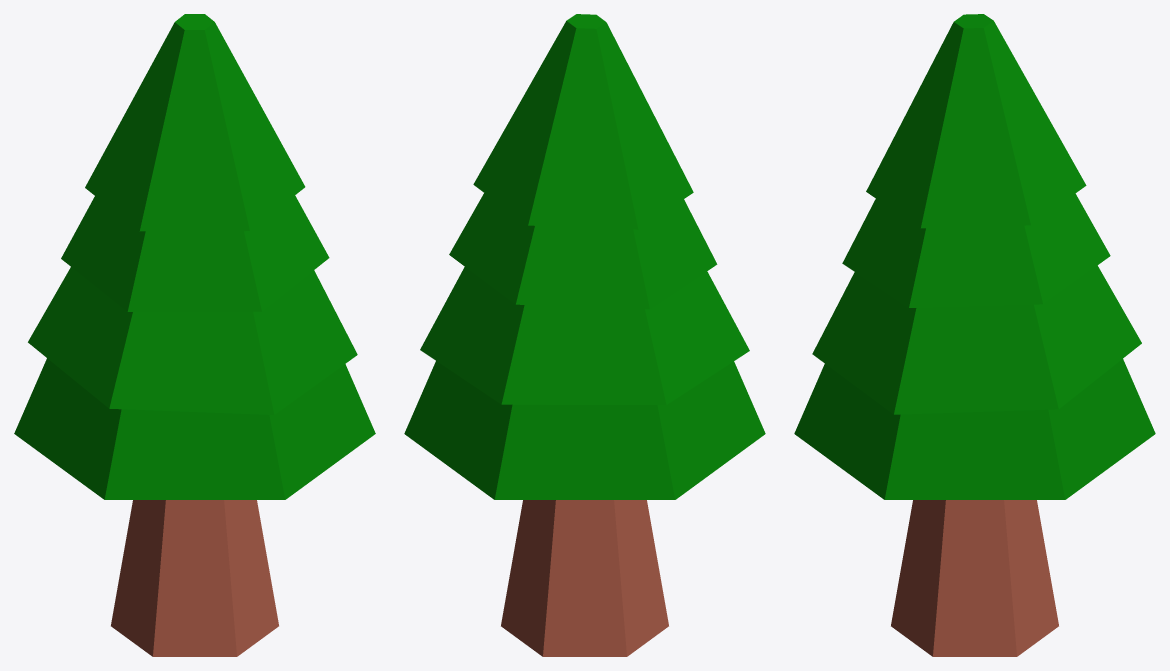
The model's file is tree_2a.fbx.
The picture shows the model from 3 angles, left to right: view 1: azimuth 30°, elevation 25°; view 2: azimuth 150°, elevation 25°; view 3: azimuth 270°, elevation 25°; orthographic projection.
Parts seen in each view (by area): view 1: tree_2a; view 2: tree_2a; view 3: tree_2a.
Part boxes in pixels (box(x1,y1,x2,y2)): tree_2a: box(14, 14, 375, 656); tree_2a: box(404, 14, 765, 656); tree_2a: box(794, 14, 1155, 656).
Bounding box in the file's own units: 274 × 584 × 316.
